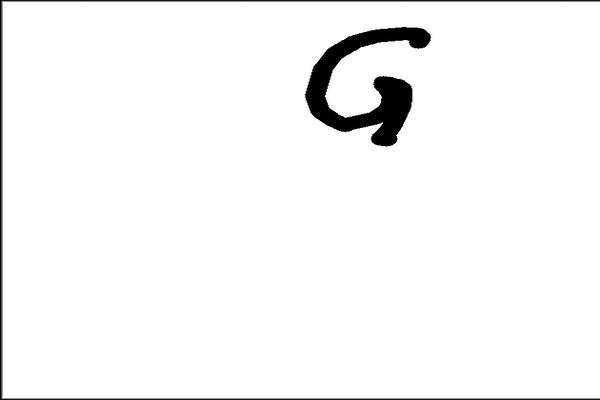G: (299, 20, 432, 150)
